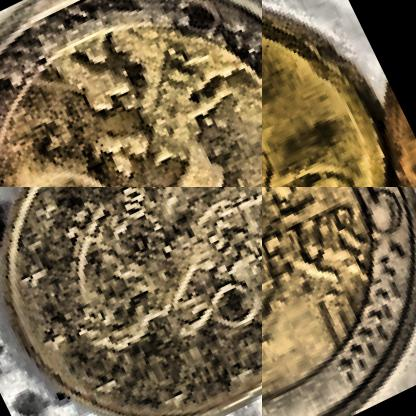coin: (0, 187, 261, 415), (0, 0, 261, 186), (262, 187, 415, 415), (262, 0, 415, 186)
